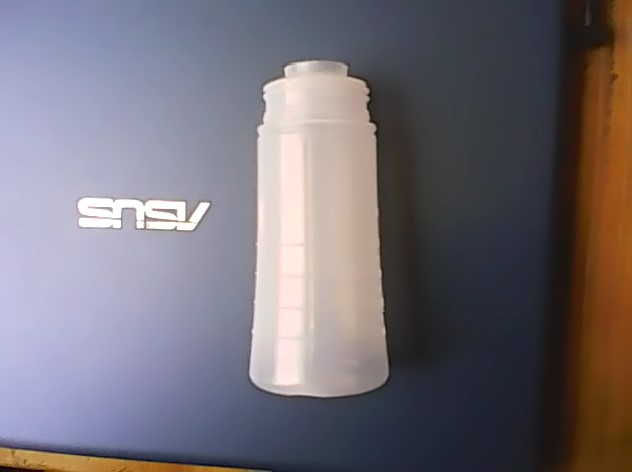Plastic: (247, 57, 396, 394)
